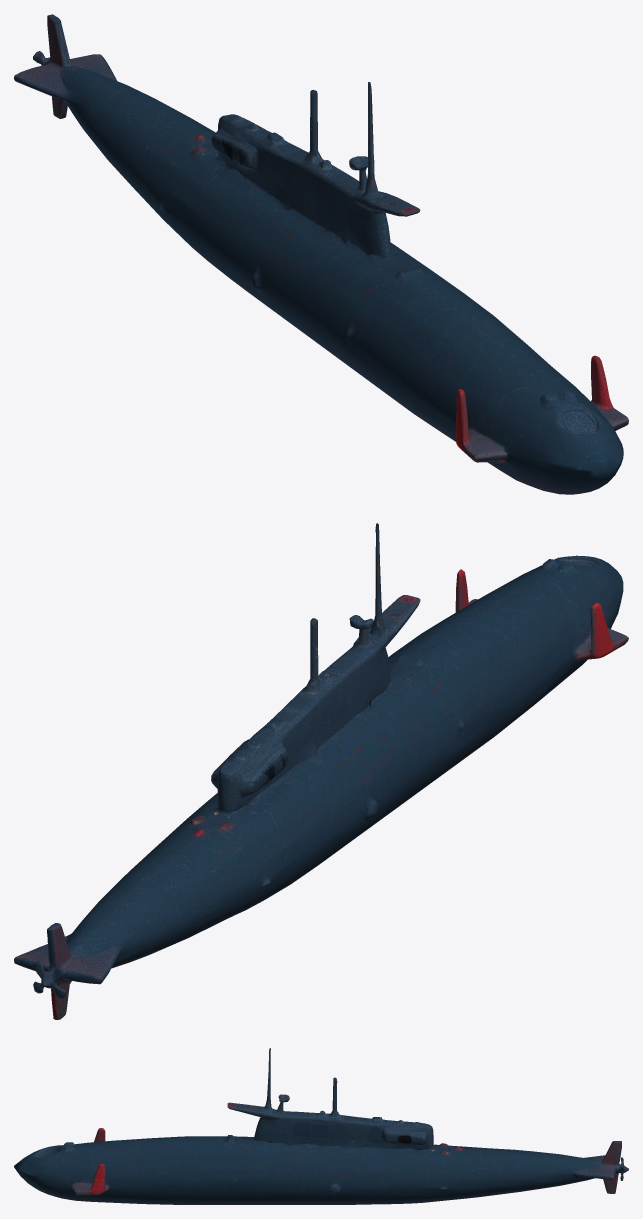
Rendered from submarine.glb.
3 views of the same model, one above another, from view 1: azimuth 30°, elevation 25°; view 2: azimuth 150°, elevation 25°; view 3: azimuth 270°, elevation 25° (orthographic). The views are drawn at different scales.
Visible parts, largest first — view 1: submarine-Meshy-cleaned; view 2: submarine-Meshy-cleaned; view 3: submarine-Meshy-cleaned.
Boxes of the visible parts, x1,y1,x2,y2 form: submarine-Meshy-cleaned: (14, 14, 628, 494); submarine-Meshy-cleaned: (14, 523, 628, 1019); submarine-Meshy-cleaned: (14, 1048, 628, 1204).
Bounding box in the file's own units: 0.3009 × 0.5182 × 1.9.
Materials: 1 (1 with a texture image).
